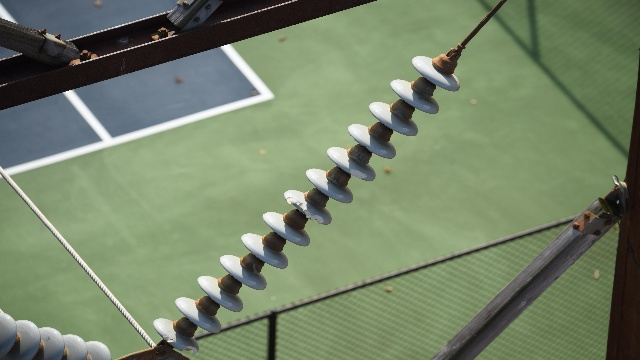broken_local: (286, 196, 329, 228), (162, 331, 202, 355), (346, 163, 369, 182)
insulator_unspecified: (153, 55, 461, 353), (0, 309, 112, 357)
